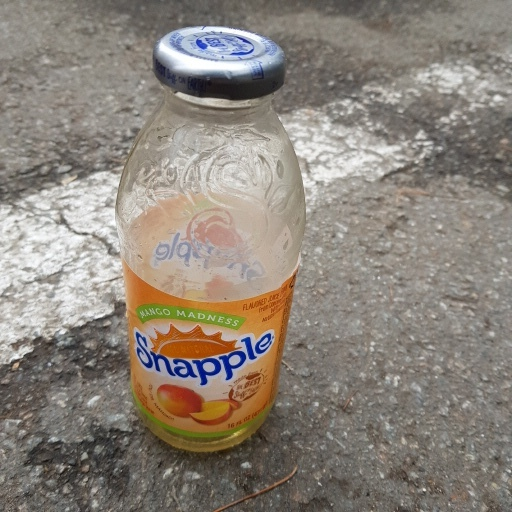Glass_4: (114, 25, 308, 459)
